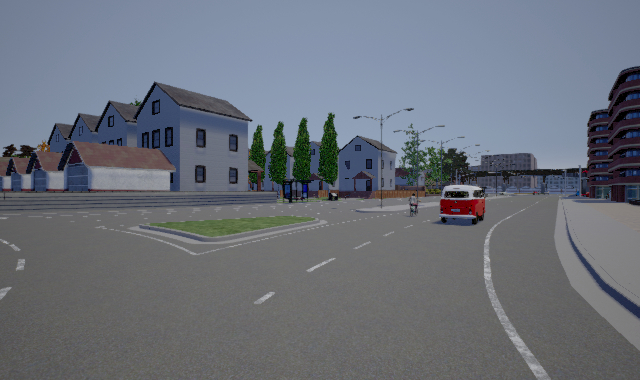bike: (408, 194, 419, 217)
vehicle: (439, 185, 486, 224)
